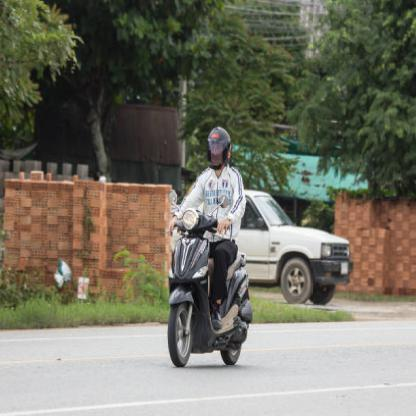Motorcycle: (162, 189, 257, 375)
